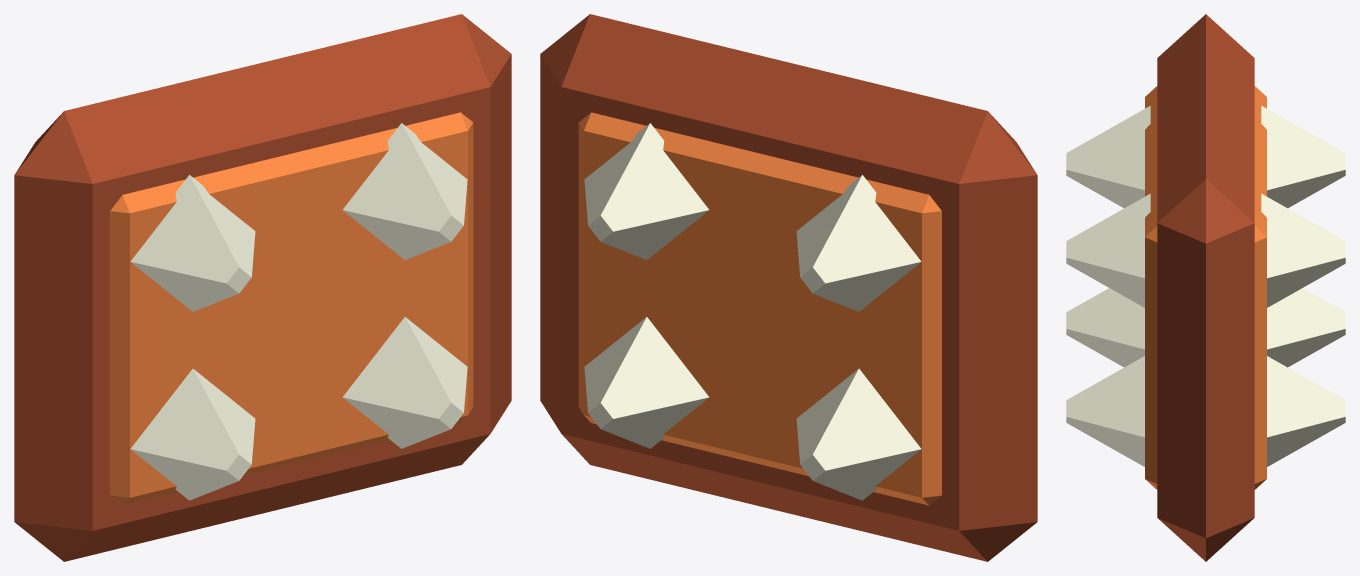
The model's file is PickupBristlePad.fbx.
3 views of the same model, side by side, from view 1: azimuth 30°, elevation 25°; view 2: azimuth 150°, elevation 25°; view 3: azimuth 270°, elevation 25° (orthographic). The views are drawn at different scales.
Parts seen in each view (by area): view 1: PickupBristlePad; view 2: PickupBristlePad; view 3: PickupBristlePad.
Boxes of the visible parts, x1=… form: PickupBristlePad: x1=14, y1=14, x2=511, y2=561; PickupBristlePad: x1=540, y1=14, x2=1037, y2=561; PickupBristlePad: x1=1066, y1=14, x2=1345, y2=561.
Size of the model in its own units: 0.75 by 0.65 by 0.43.
